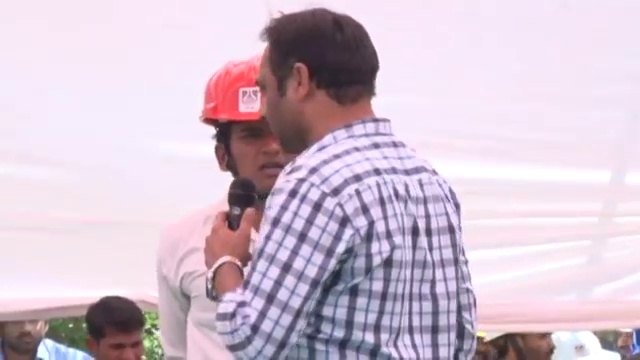helmet: (197, 57, 267, 127)
helmet_off: (256, 4, 381, 161), (76, 304, 150, 360), (505, 324, 558, 360), (0, 317, 47, 357)
helmet_on: (195, 57, 289, 209)
person: (204, 6, 475, 360), (159, 52, 274, 360)
